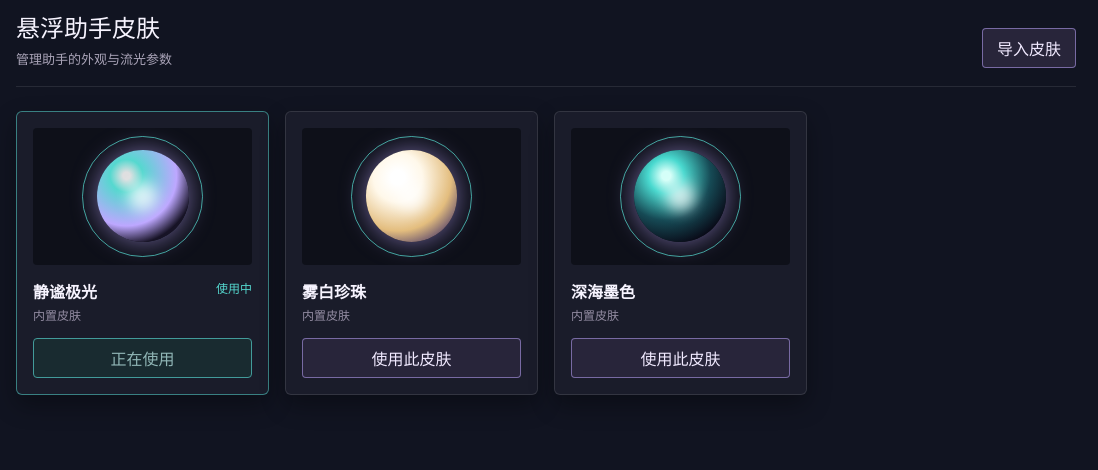
Test: keeps the current skin and exposes an alert when import fails
Expected: the heading "静谧极光" is shown, [33,279,97,303]
What coordinates should you click on to do the following:
click the button "导入皮肤"
I would click on:
 (1029, 48)
Its box is [982,28,1076,68].
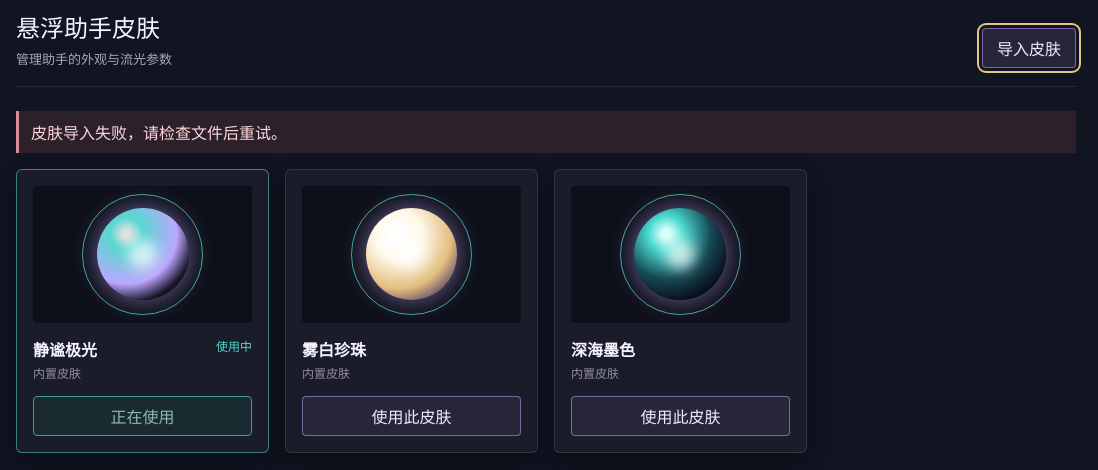
Result: the message shows "皮肤导入失败" at [31,125,287,142]
